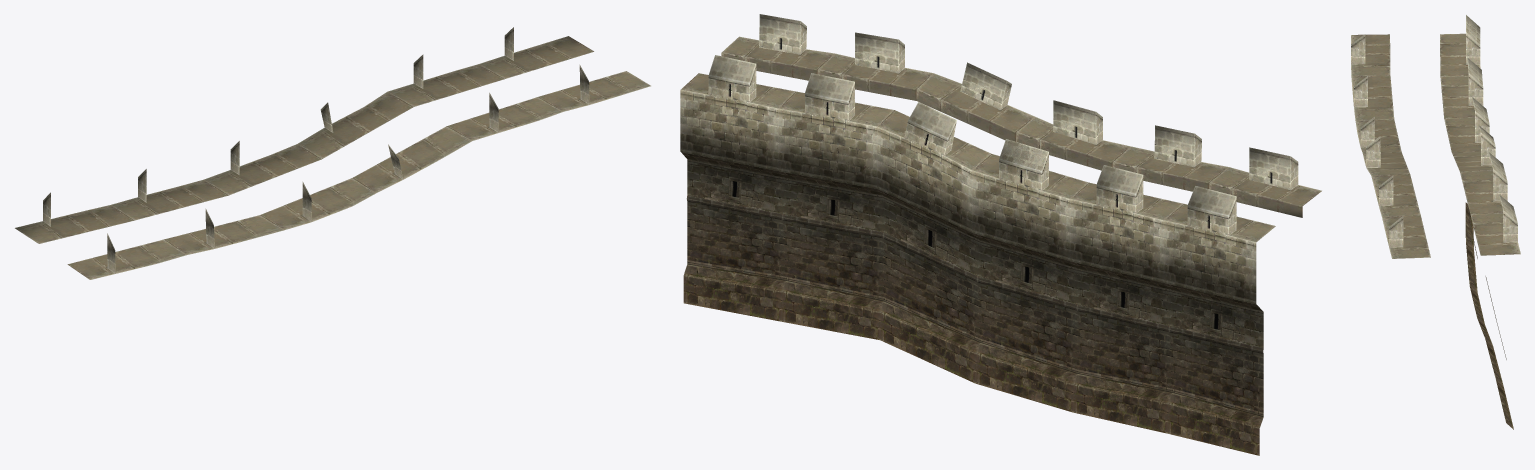
The model's file is OZ_09_sn_T03Wal03H.glb.
The picture shows the model from 3 angles, left to right: view 1: azimuth 30°, elevation 25°; view 2: azimuth 150°, elevation 25°; view 3: azimuth 270°, elevation 25°; orthographic projection. The views are drawn at different scales.
Visible parts, largest first — view 1: OM_09_sn_T03Wal03H; view 2: OM_09_sn_T03Wal03H; view 3: OM_09_sn_T03Wal03H.
Part boxes in pixels (x1,y1,x2,y2): OM_09_sn_T03Wal03H: [15, 27, 650, 279]; OM_09_sn_T03Wal03H: [680, 14, 1321, 455]; OM_09_sn_T03Wal03H: [1351, 15, 1520, 429].
Size of the model in its own units: 35.43 by 17.02 by 9.92.
Materials: 2 (2 with a texture image).
